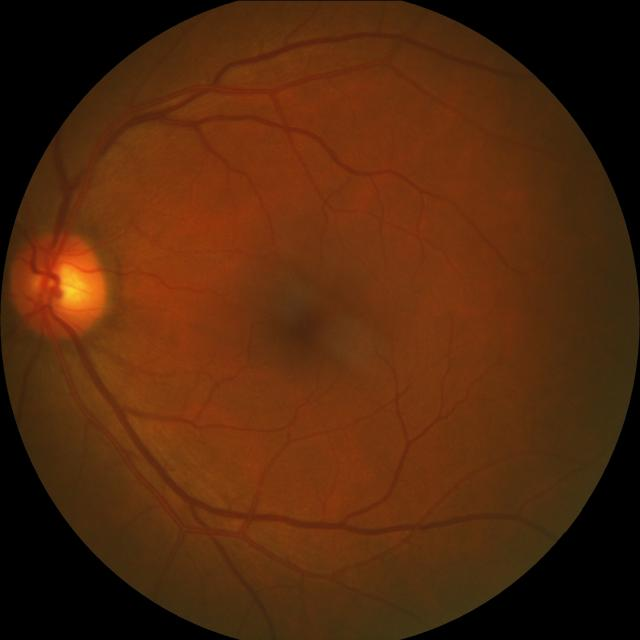OC: (37, 261, 82, 306)
OD: (7, 231, 104, 338)
